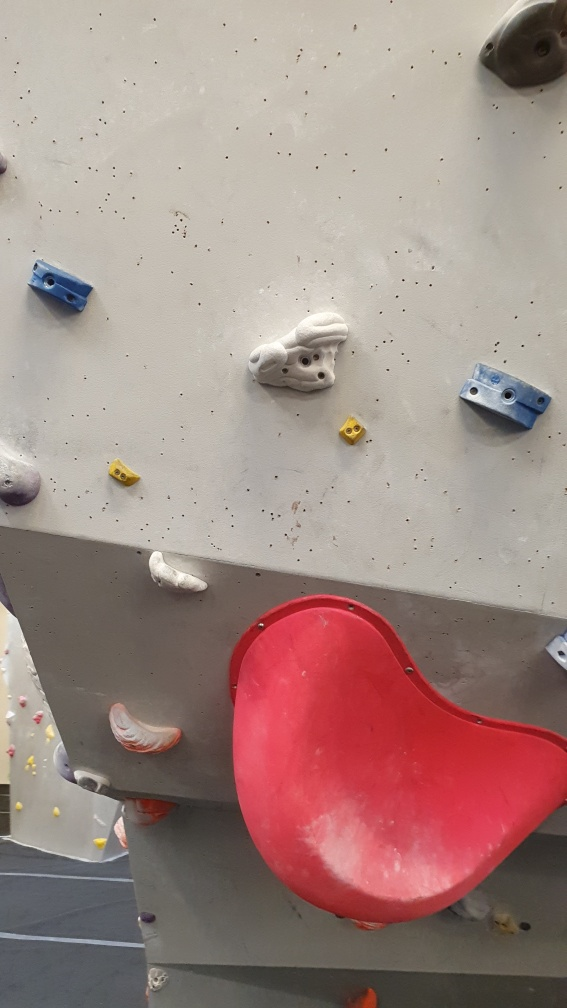Crimp: (105, 454, 148, 494)
Jug: (242, 306, 353, 398), (102, 695, 188, 757), (139, 541, 214, 603), (331, 410, 373, 450)
Pinch: (455, 360, 552, 437), (22, 253, 101, 317)
